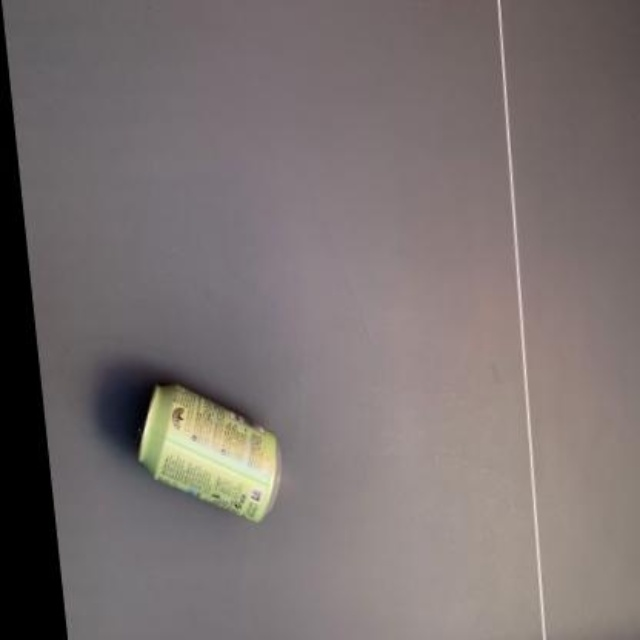trash: (138, 385, 278, 522)
